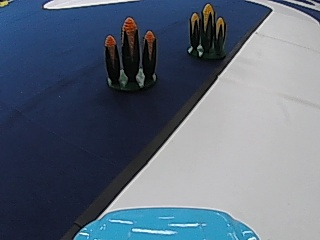corn: (102, 17, 161, 90), (185, 1, 228, 58)
